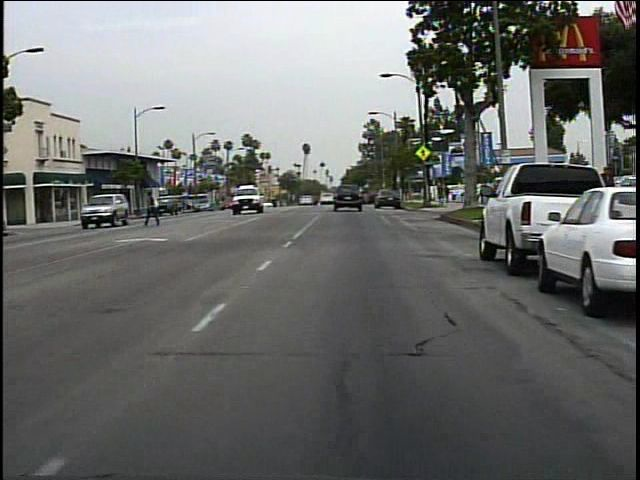person: (590, 163, 618, 233), (142, 187, 170, 229)
